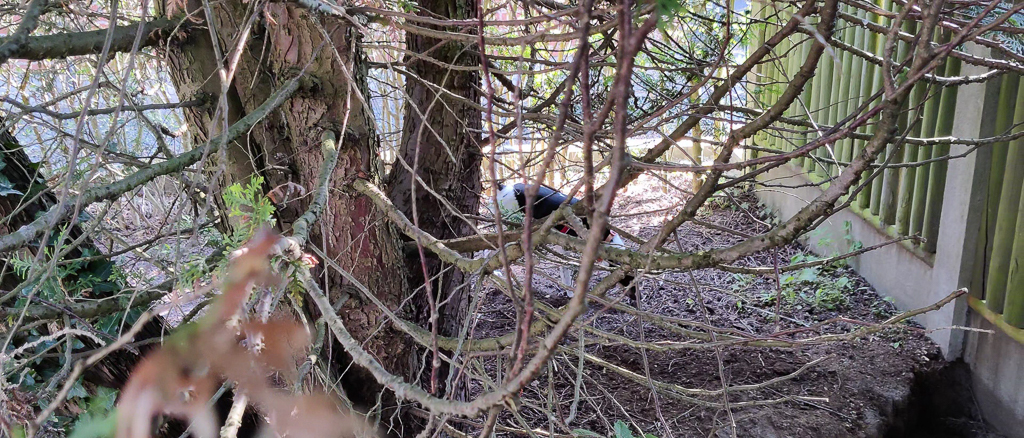Dog: (486, 143, 648, 309)
